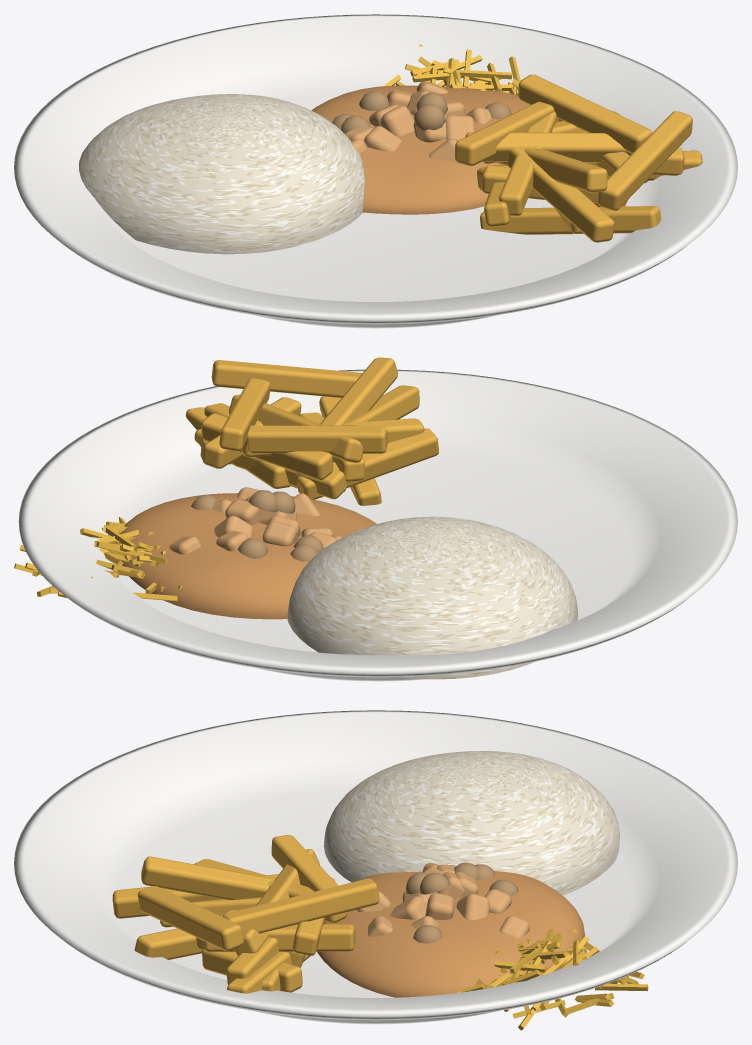
The model's file is estrogonofe.glb.
The picture shows the model from 3 angles, top to bottom: view 1: azimuth 30°, elevation 25°; view 2: azimuth 150°, elevation 25°; view 3: azimuth 270°, elevation 25°; orthographic projection.
Size of the model in its own units: 0.27 by 0.0451 by 0.27.
7 materials, 1 textured.
